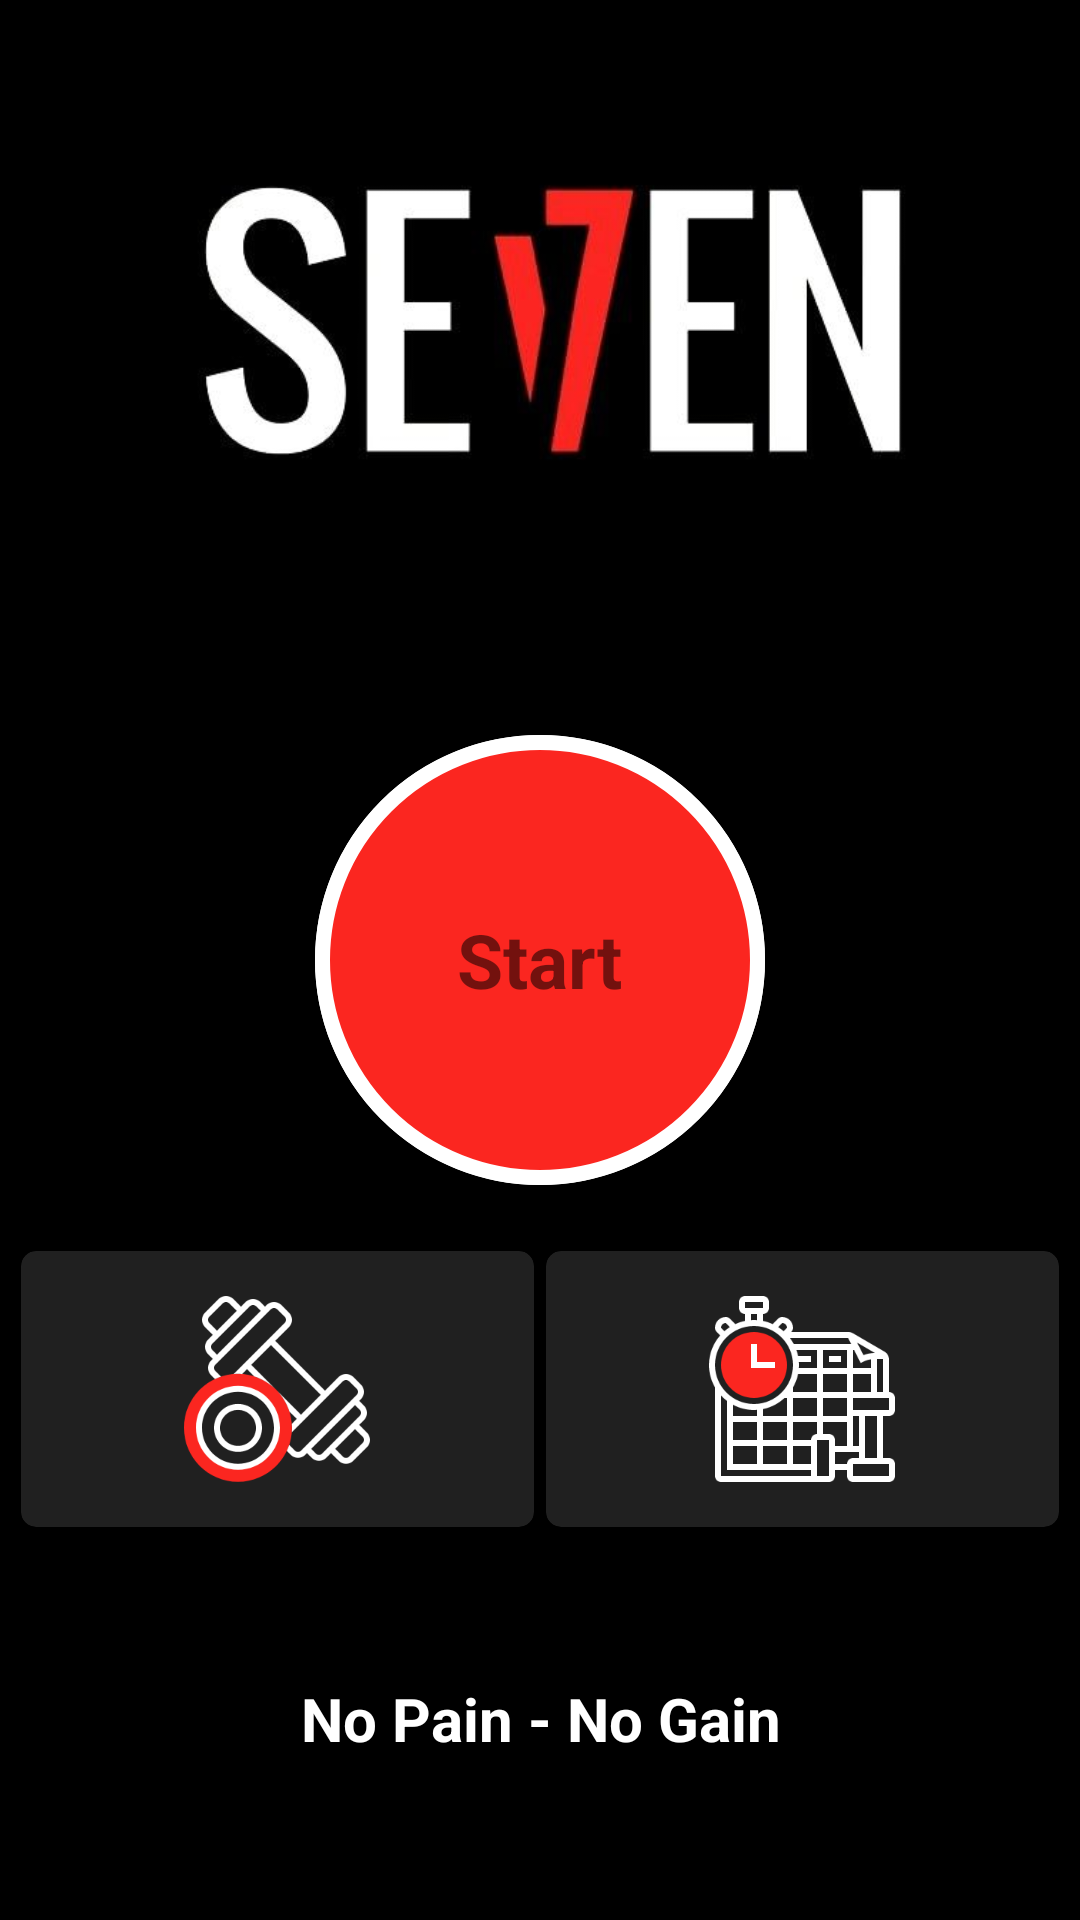

Locate icon controls on the screen. Image size 1080x1920, boxes as box(x1, y1, x2, y2).
dumbbells: box(184, 1296, 370, 1482)
planning: box(709, 1296, 895, 1482)
